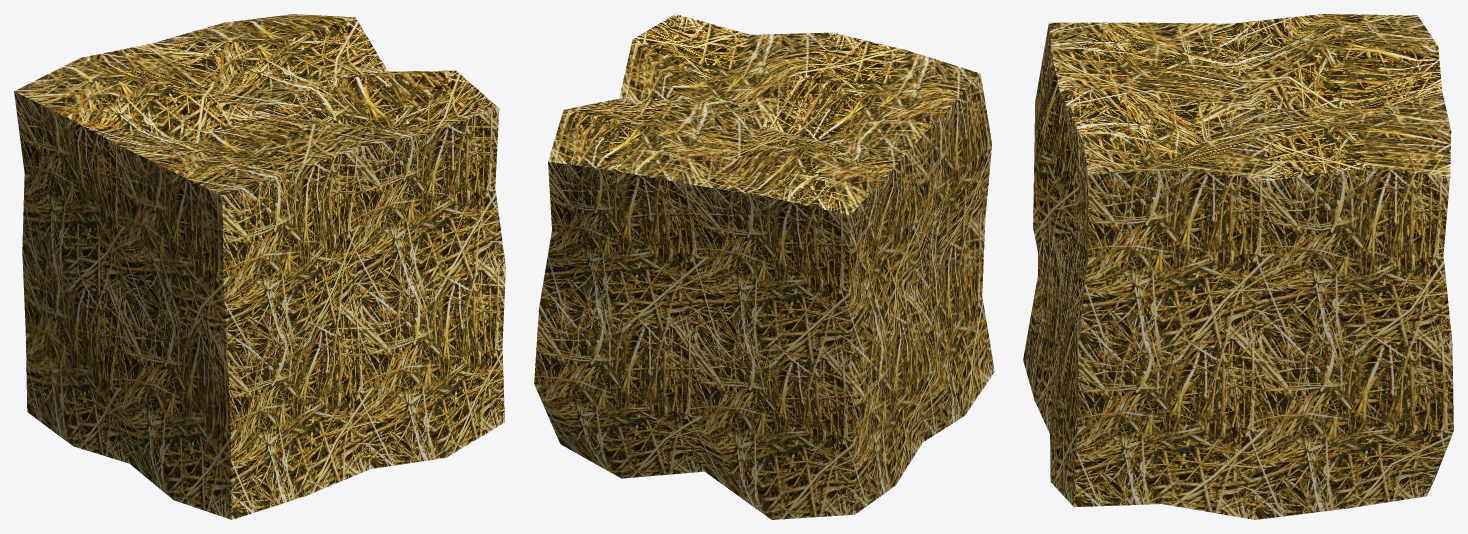
Rendered from STRAWBOX-ok.fbx.
3 renders of one model, left to right at view 1: azimuth 30°, elevation 25°; view 2: azimuth 150°, elevation 25°; view 3: azimuth 270°, elevation 25°, orthographic. The views are drawn at different scales.
Parts seen in each view (by area): view 1: strawbox; view 2: strawbox; view 3: strawbox.
Boxes of the visible parts, box(x1,y1,x2,y2) form: strawbox: box(14, 14, 505, 519); strawbox: box(534, 14, 994, 519); strawbox: box(1023, 14, 1453, 519).
Size of the model in its own units: 230 by 224 by 232.
1 material, 1 textured.
